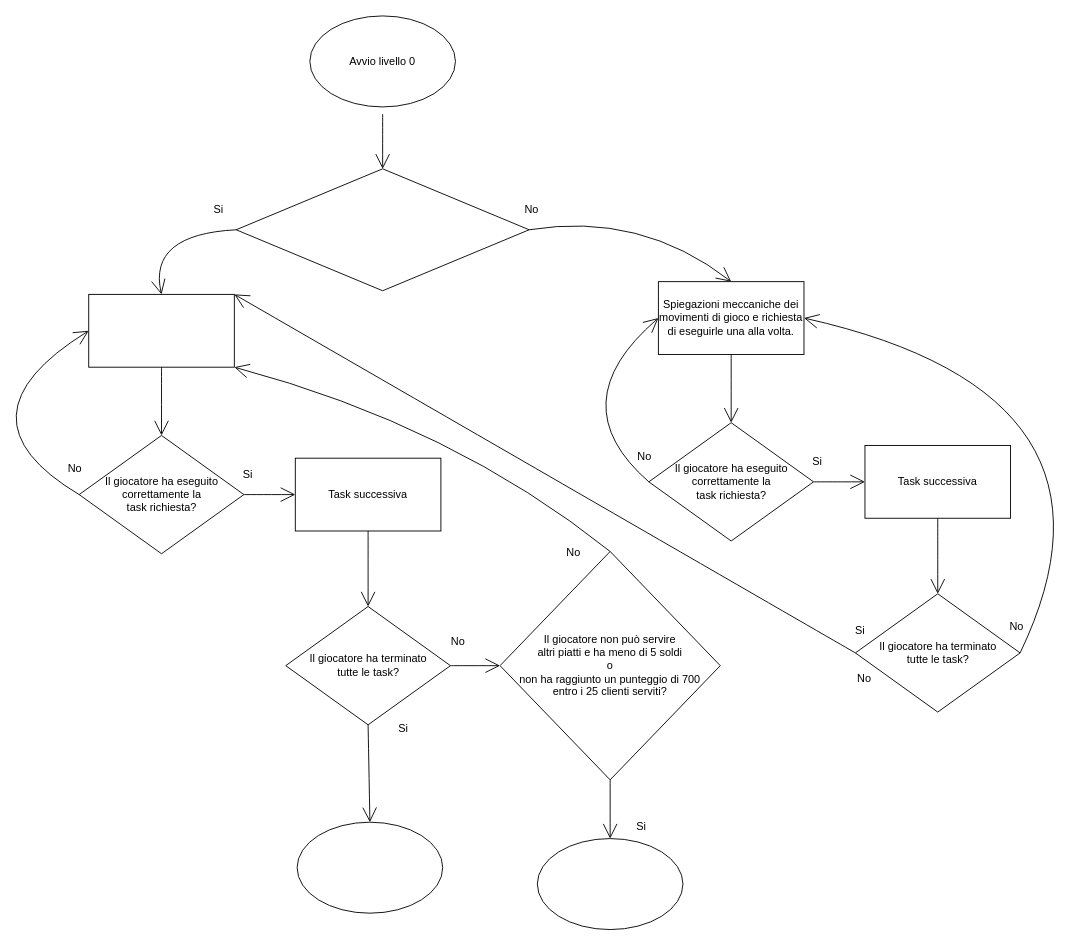
This 1069x945 diagram has some shape labels left out. The shapes that lost their labels are listed below. From the top down, each one's box as (x1, y1, x2, y2) in pixels, then its label:
(235, 168, 529, 291): Richiesta al giocatore se ha già esperienza con i giochi in prima persona
(88, 293, 234, 367): Spiegazioni meccaniche del gioco e richiesta di eseguirle una alla volta.
(296, 821, 443, 913): Fine livello, sblocca livello 1
(536, 838, 683, 930): Fine livello, gameover
